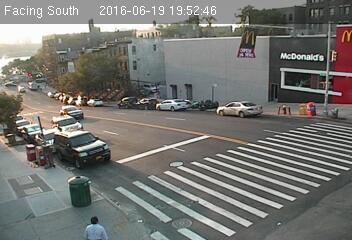neg: (197, 93, 217, 120)
pos: (81, 211, 102, 239)
